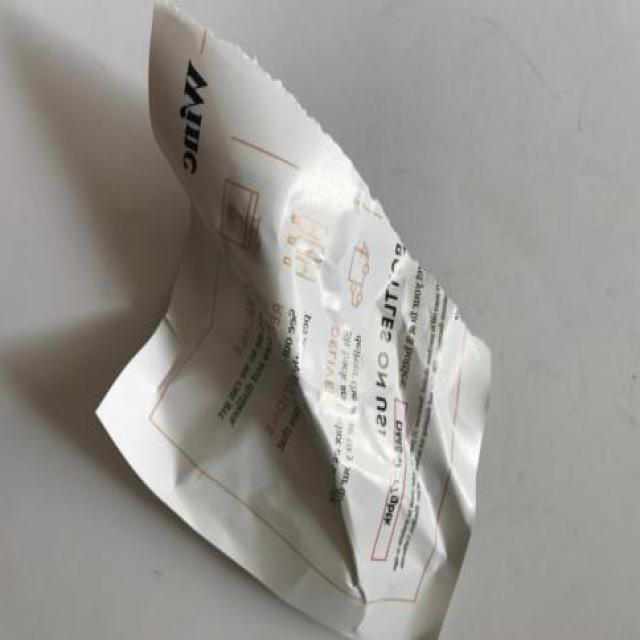kertas: (94, 0, 492, 640)
